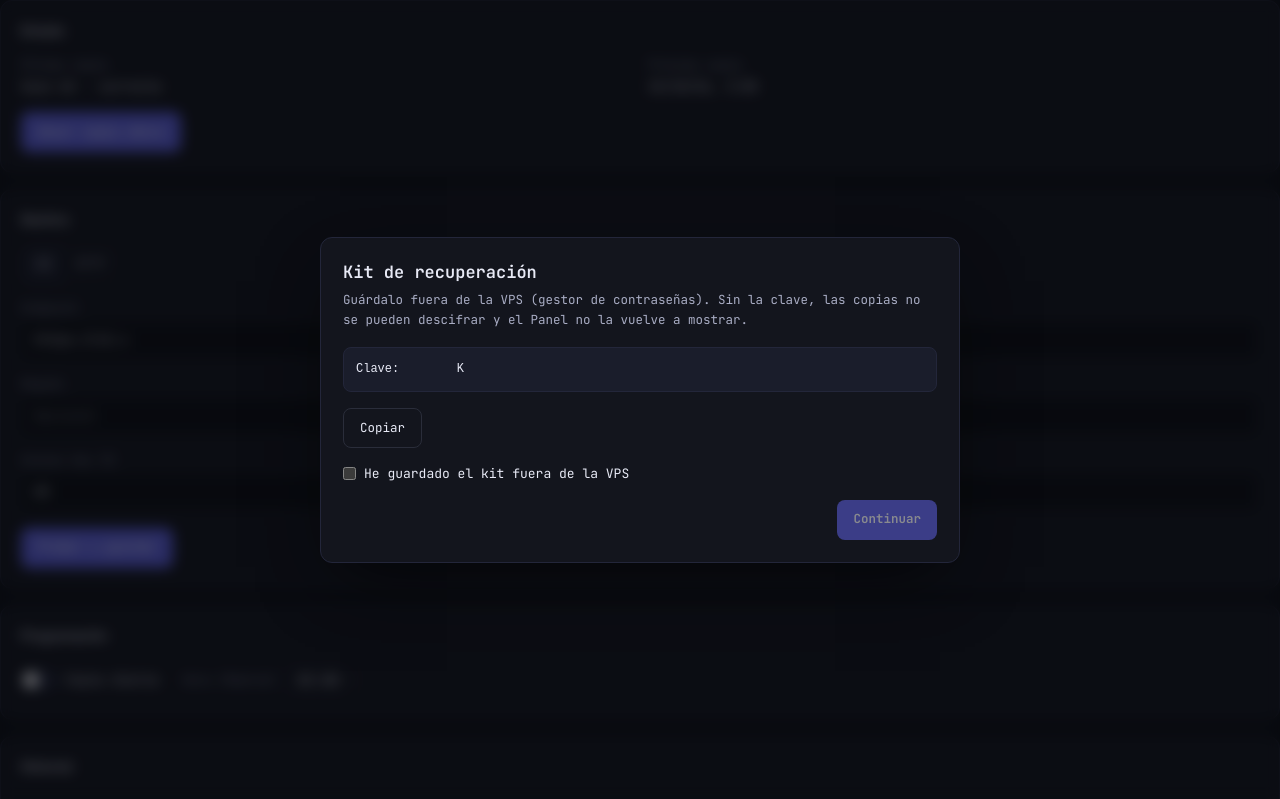
it: ConfiguracionBackups › con la clave sin confirmar abre el kit de recuperación
This screenshot has width=1280, height=799.
Check: the dialog shows "Clave: K", box [356,362,464,376]
Click the checkbox labelled "He guardado el kit fuera de la VPS". click: {"x": 350, "y": 474}
box: [343,467,356,480]
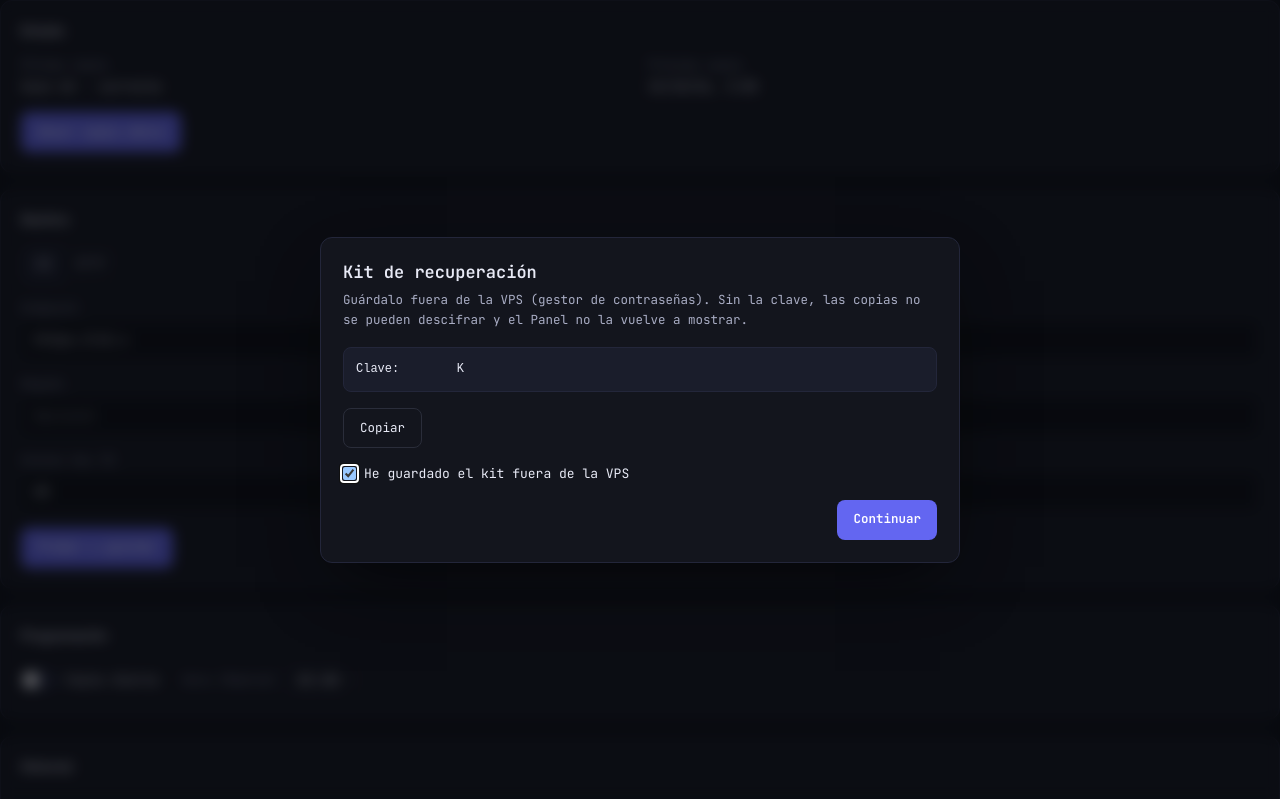
Click the button "Continuar". click: {"x": 887, "y": 520}
box: [838,500,937,540]
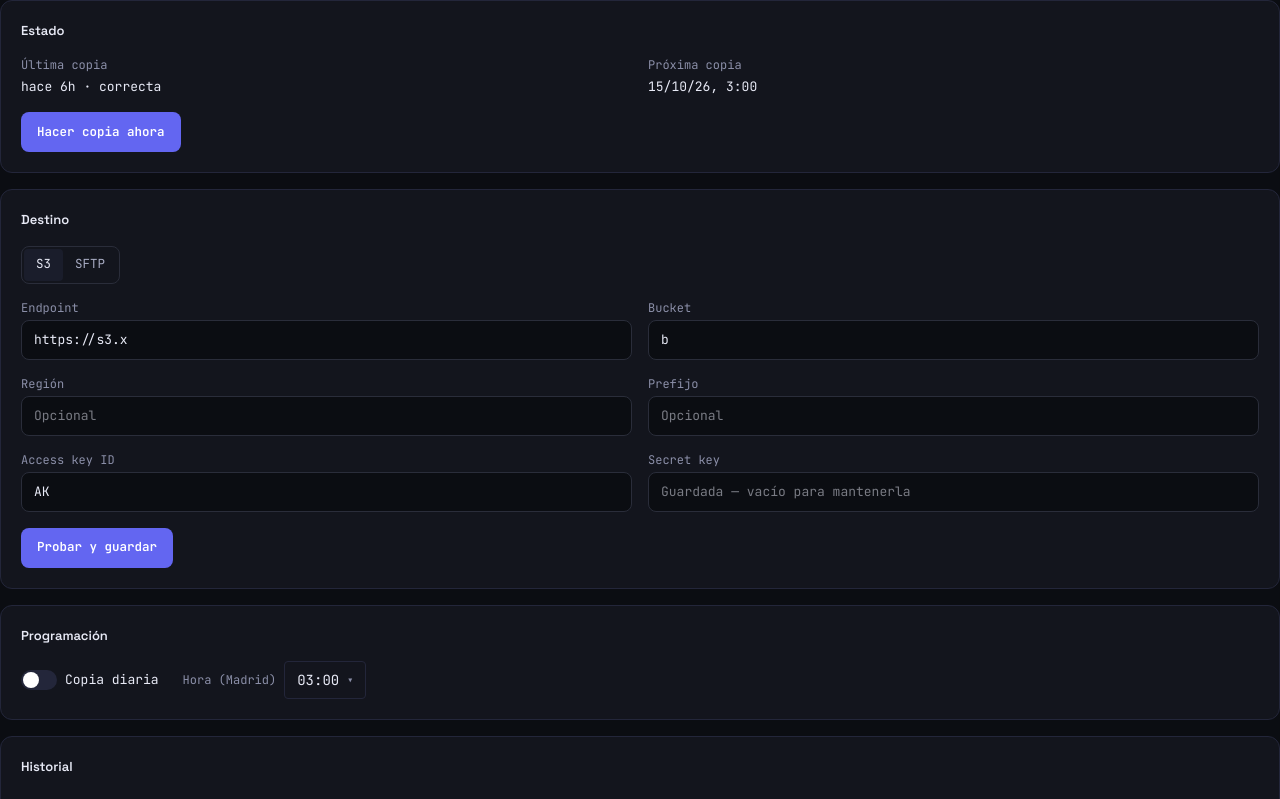
Check: the dialog is gone
